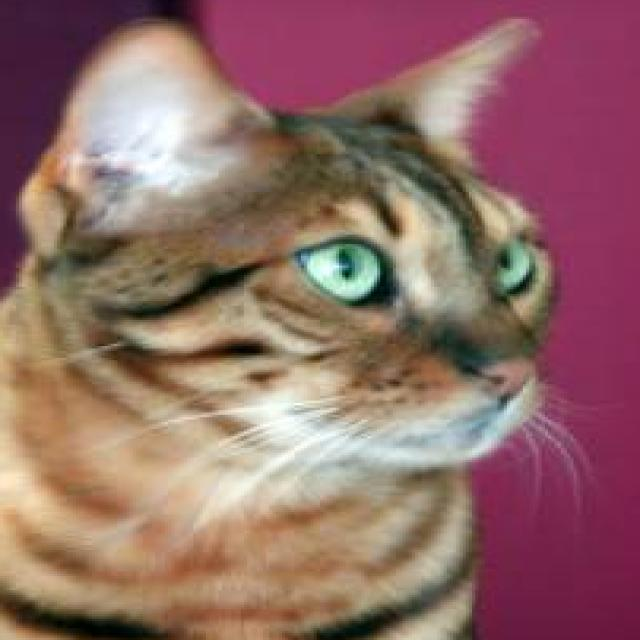Bengal: (0, 12, 573, 640)
